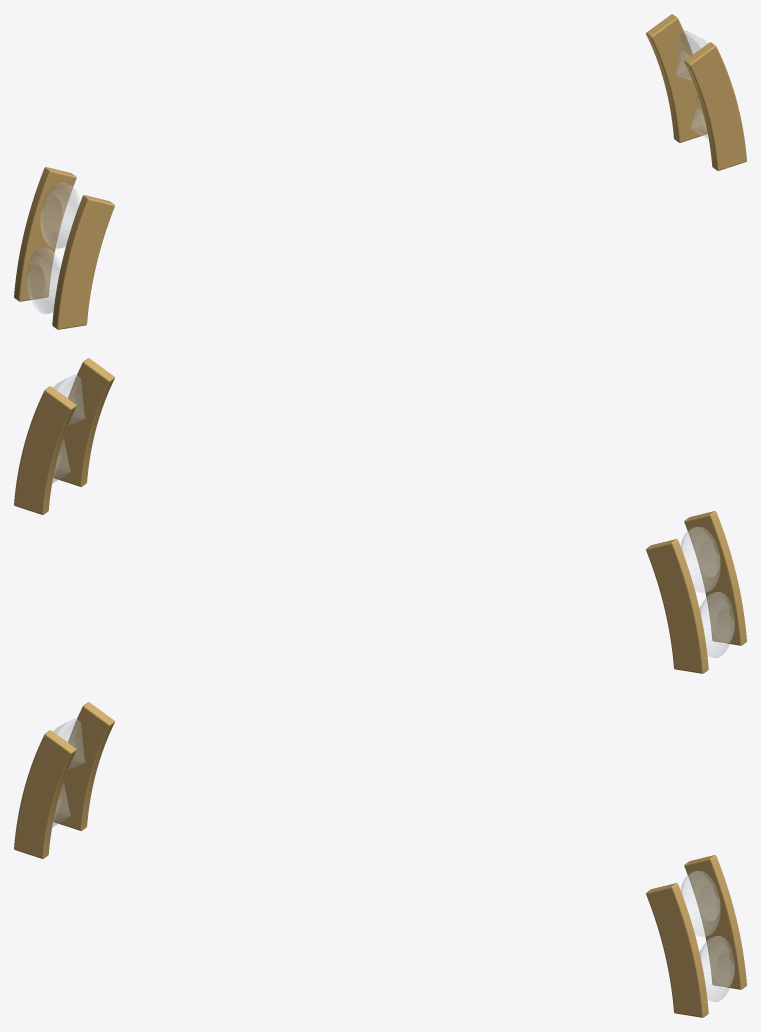
Rendered from accents-channel-multi.glb.
The picture shows the model from 3 angles, top to bottom: view 1: azimuth 30°, elevation 25°; view 2: azimuth 150°, elevation 25°; view 3: azimuth 330°, elevation 25°; orthographic projection.
Visible parts, largest first — view 1: Channel wall, Channel wall.001, Channel wall.002, Channel wall.003, Gem, Gem.001, Gem.002; view 2: Channel wall.001, Channel wall, Channel wall.003, Channel wall.002, Gem, Gem.001, Gem.002; view 3: Channel wall.002, Channel wall.003, Channel wall, Channel wall.001, Gem.002, Gem.003, Gem.
Boxes of the visible parts, left/top/right/bottom form: Channel wall: left=52, top=195, right=114, bottom=329; Channel wall.001: left=14, top=167, right=76, bottom=301; Channel wall.002: left=684, top=42, right=746, bottom=170; Channel wall.003: left=646, top=14, right=707, bottom=142; Gem: left=40, top=183, right=80, bottom=248; Gem.001: left=26, top=248, right=61, bottom=313; Gem.002: left=676, top=31, right=707, bottom=80; Channel wall.001: left=646, top=539, right=708, bottom=673; Channel wall: left=684, top=511, right=746, bottom=645; Channel wall.003: left=14, top=386, right=76, bottom=514; Channel wall.002: left=53, top=358, right=114, bottom=486; Gem: left=680, top=527, right=720, bottom=592; Gem.001: left=699, top=592, right=734, bottom=657; Gem.002: left=53, top=375, right=84, bottom=424; Channel wall.002: left=646, top=883, right=708, bottom=1017; Channel wall.003: left=684, top=855, right=746, bottom=989; Channel wall: left=14, top=730, right=76, bottom=858; Channel wall.001: left=53, top=702, right=114, bottom=830; Gem.002: left=680, top=871, right=720, bottom=936; Gem.003: left=699, top=936, right=734, bottom=1001; Gem: left=53, top=719, right=84, bottom=768.
Size of the model in its own units: 19.86 by 3.45 by 2.19.
